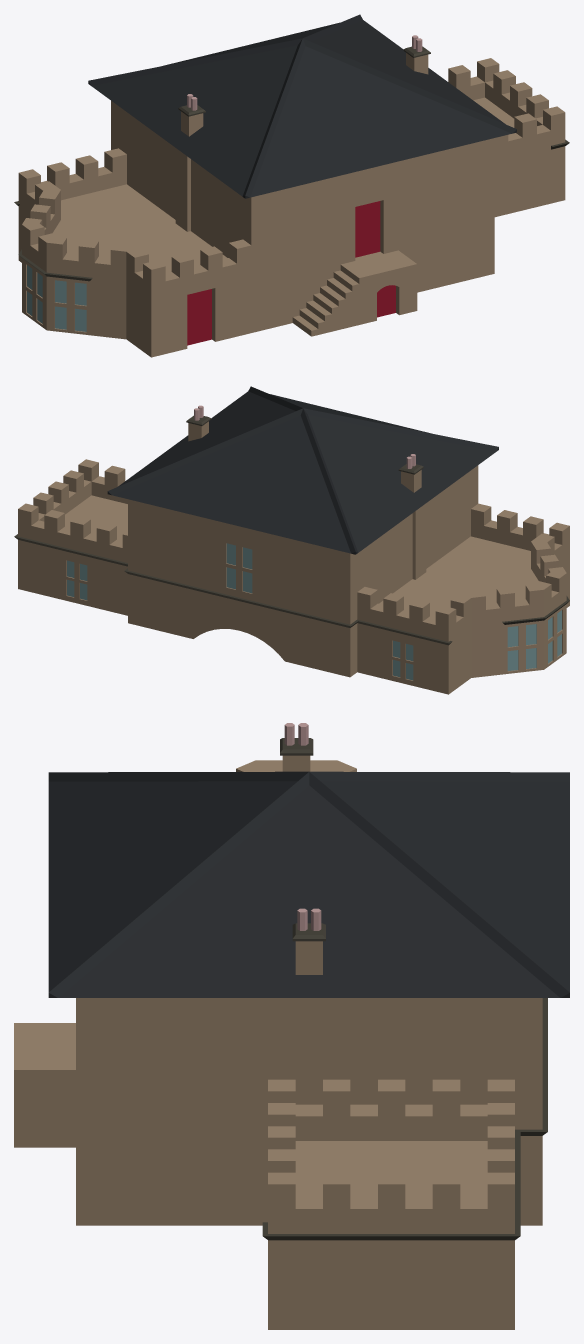
Rendered from Draft 4.dae.
3 renders of one model, top to bottom at view 1: azimuth 30°, elevation 25°; view 2: azimuth 150°, elevation 25°; view 3: azimuth 270°, elevation 25°, orthographic. The views are drawn at different scales.
Visible parts, largest first — view 1: SketchUp (×5); view 2: SketchUp (×3); view 3: SketchUp (×4).
Boxes of the visible parts, bbox=[...] form: SketchUp (×5): bbox=[18, 14, 565, 357]; SketchUp (×3): bbox=[14, 386, 569, 694]; SketchUp (×4): bbox=[14, 760, 569, 1329].
Size of the model in its own units: 585 by 321 by 226.
